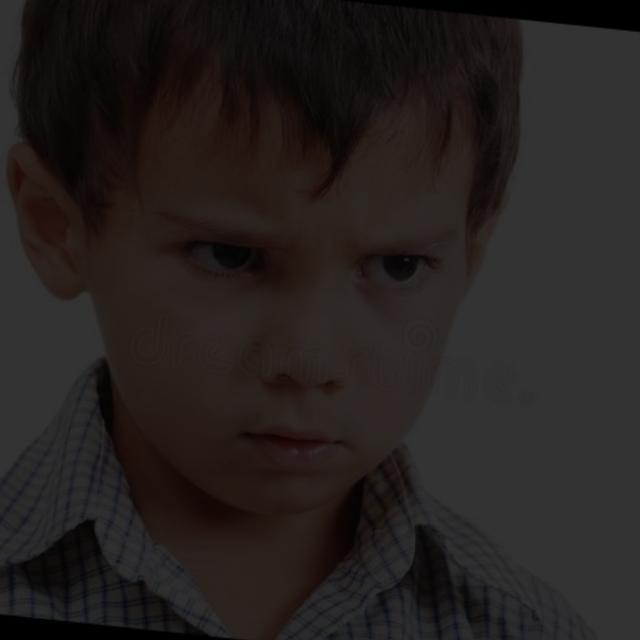Angry: (117, 119, 456, 514)
